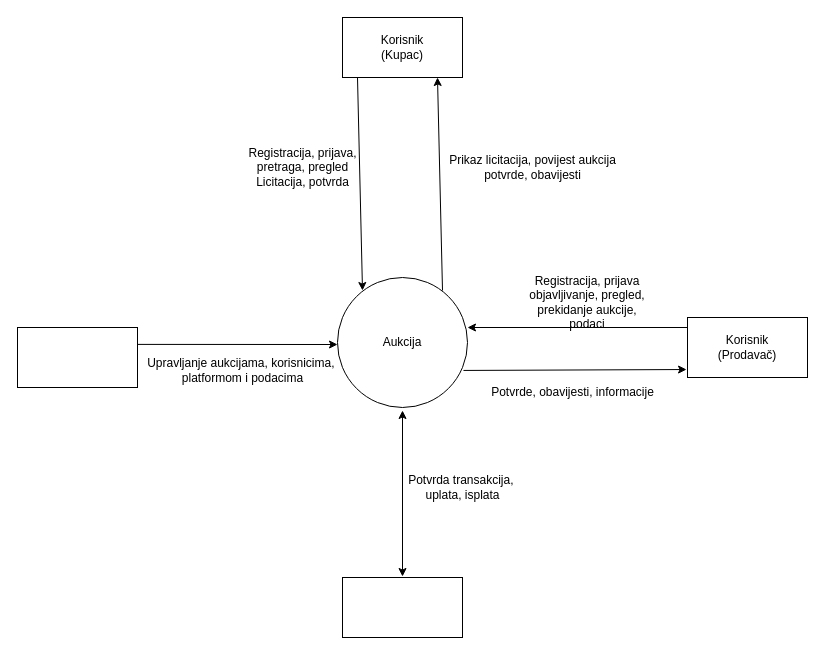
Image size: 825x655. Some labels were removed from this diagram. The shapes that lost their labels are listed below. From the top down, each one's centre as x and y in pixels, then its label:
At point (77, 357): "Administrator".
At point (402, 607): "Sustav za plaćanje".
